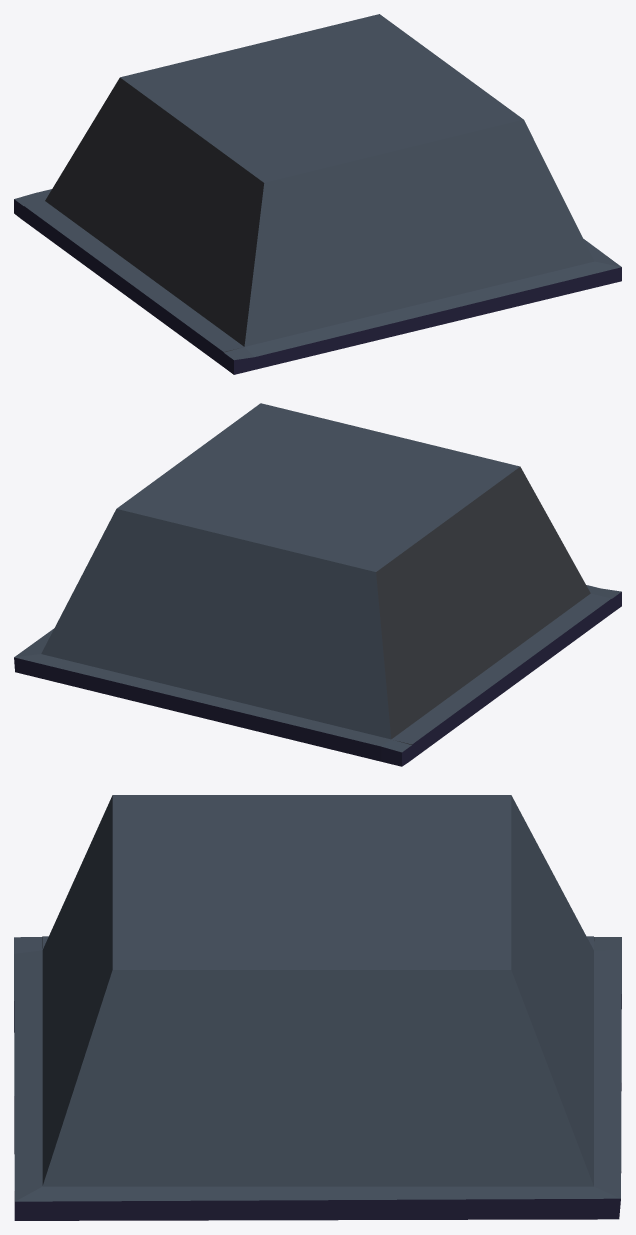
Rendered from SingleRoof.fbx.
3 renders of one model, top to bottom at view 1: azimuth 30°, elevation 25°; view 2: azimuth 150°, elevation 25°; view 3: azimuth 270°, elevation 25°, orthographic. The views are drawn at different scales.
Parts seen in each view (by area): view 1: Cube; view 2: Cube; view 3: Cube.
Part boxes in pixels (box(x1,y1,x2,y2)): Cube: box(14, 14, 621, 374); Cube: box(14, 403, 621, 766); Cube: box(14, 795, 621, 1220).
Size of the model in its own units: 543 by 202 by 533.
